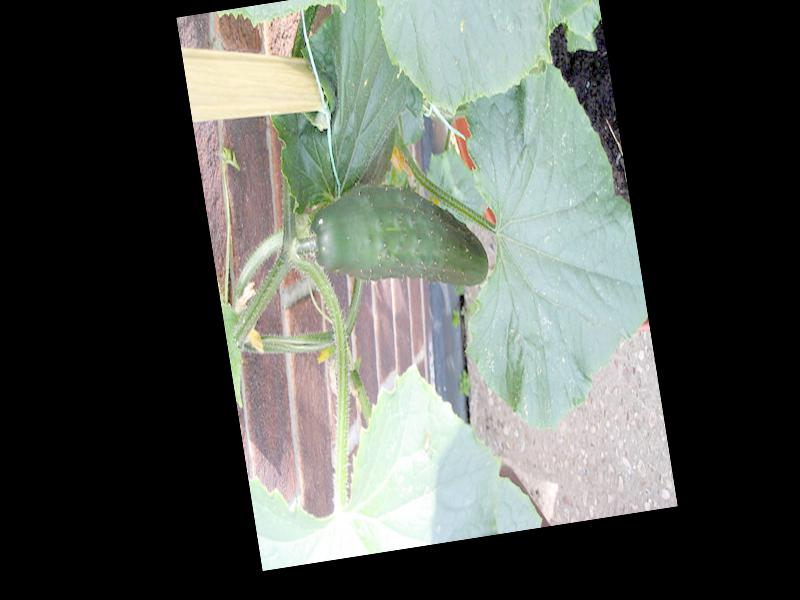Cucumber: (305, 169, 492, 312)
